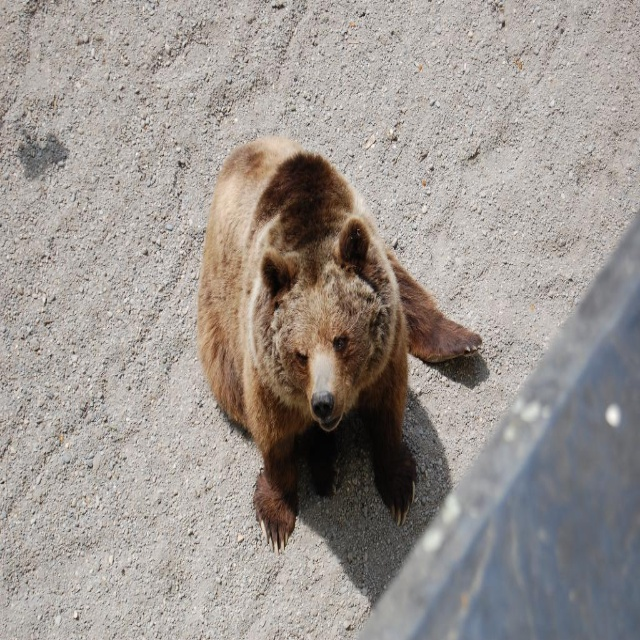Brown bear: (198, 132, 482, 559)
